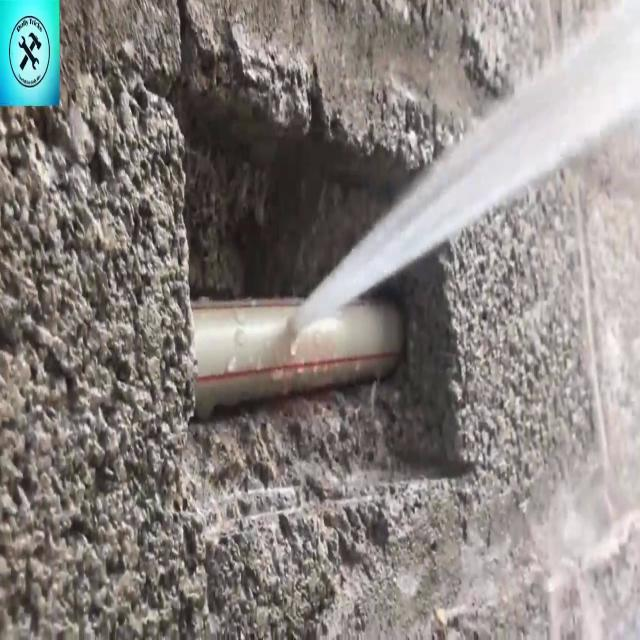leak: (289, 1, 640, 339)
